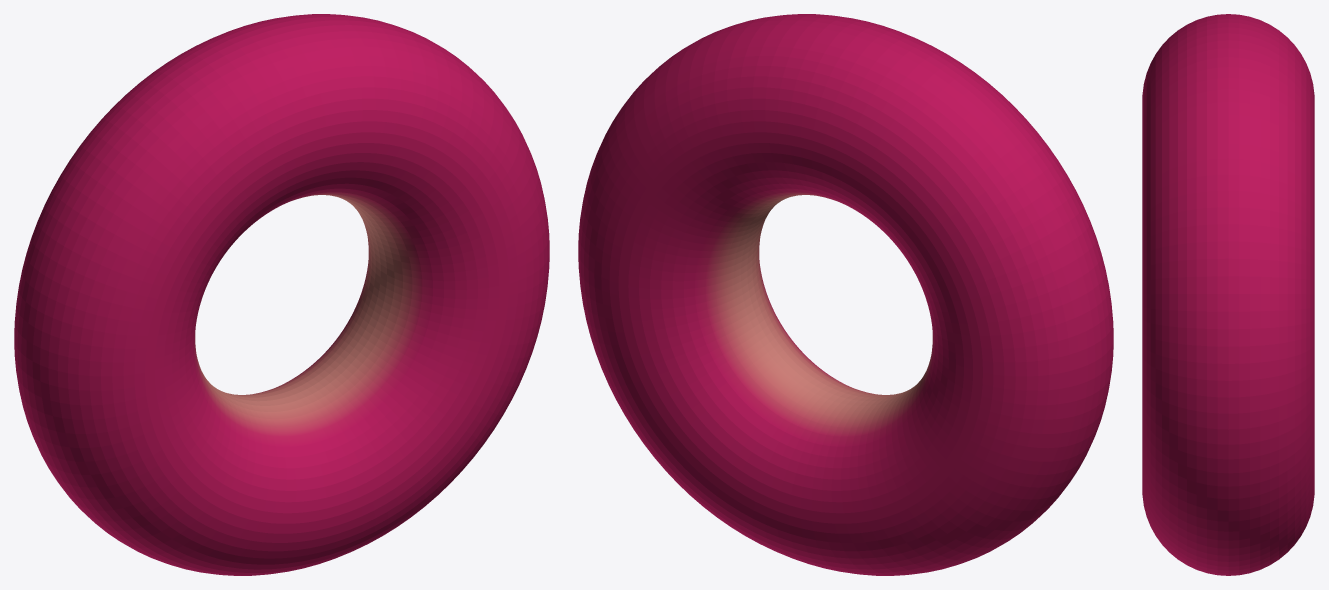
3 renders of one model, left to right at view 1: azimuth 30°, elevation 25°; view 2: azimuth 150°, elevation 25°; view 3: azimuth 270°, elevation 25°, orthographic. The views are drawn at different scales.
Parts seen in each view (by area): view 1: world; view 2: world; view 3: world.
Part boxes in pixels (x1=…): world: x1=14, y1=14, x2=549, y2=575; world: x1=578, y1=14, x2=1113, y2=575; world: x1=1142, y1=14, x2=1314, y2=575.
Bounding box in the file's own units: 31.73 × 31.73 × 9.71.
